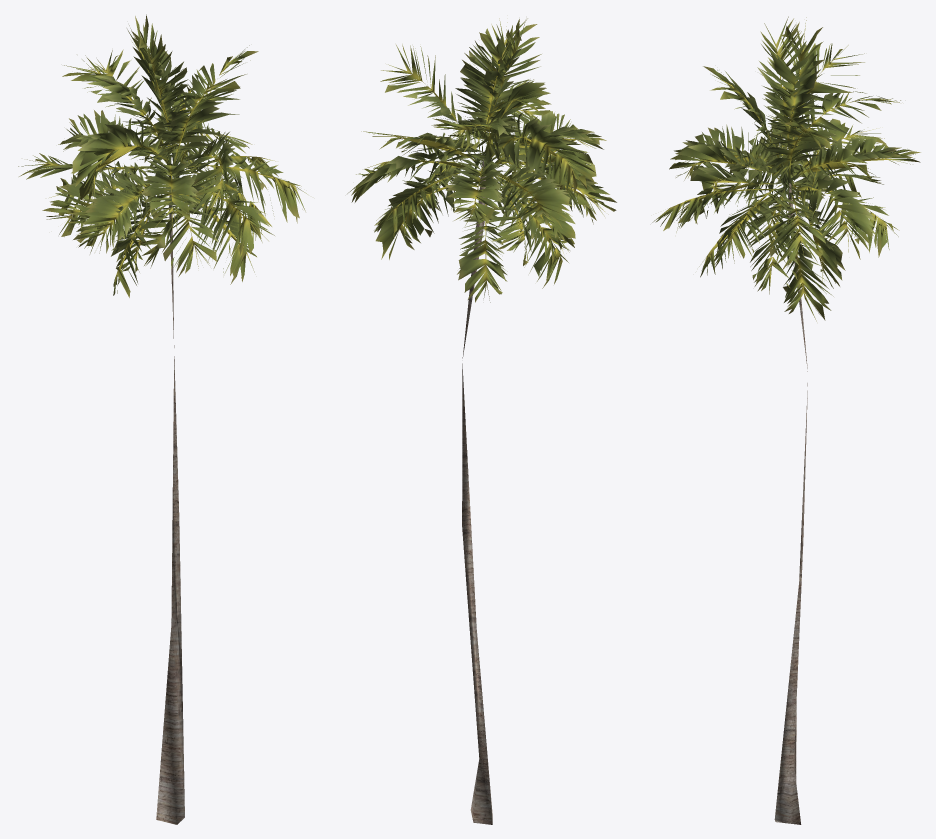
The model's file is palm.glb.
The picture shows the model from 3 angles, left to right: view 1: azimuth 30°, elevation 25°; view 2: azimuth 150°, elevation 25°; view 3: azimuth 270°, elevation 25°; orthographic projection.
Parts seen in each view (by area): view 1: Coconut-tree; view 2: Coconut-tree; view 3: Coconut-tree.
Part boxes in pixels (bbox=[...]): Coconut-tree: bbox=[18, 14, 307, 824]; Coconut-tree: bbox=[347, 18, 616, 824]; Coconut-tree: bbox=[652, 16, 920, 824].
Size of the model in its own units: 475 by 1565 by 493.
Materials: 2 (2 with a texture image).
